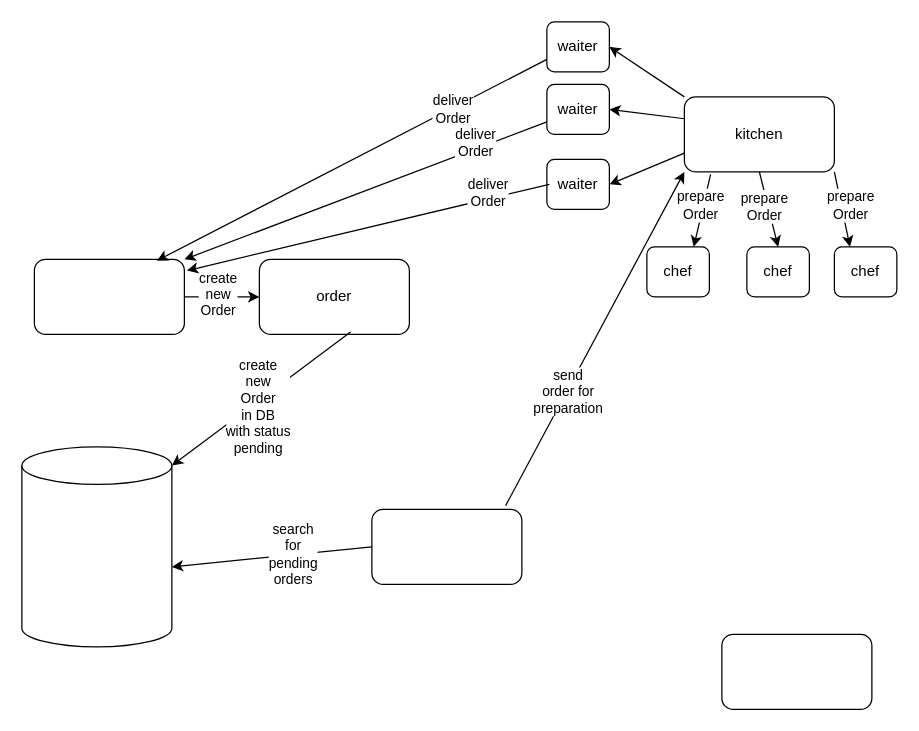
This 919x731 diagram has some shape labels left out. Here are the shapes that lost their labels. From the top down, the centre of each, then its label:
At [108,296]: "table".
At [96,546]: "Orders".
At [446,546]: "Job Notification".
At [796,671]: "payment".
